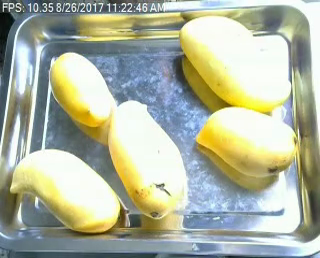Mango: (180, 16, 292, 112), (8, 148, 119, 233), (107, 100, 185, 219), (196, 106, 296, 175), (49, 51, 111, 126)
